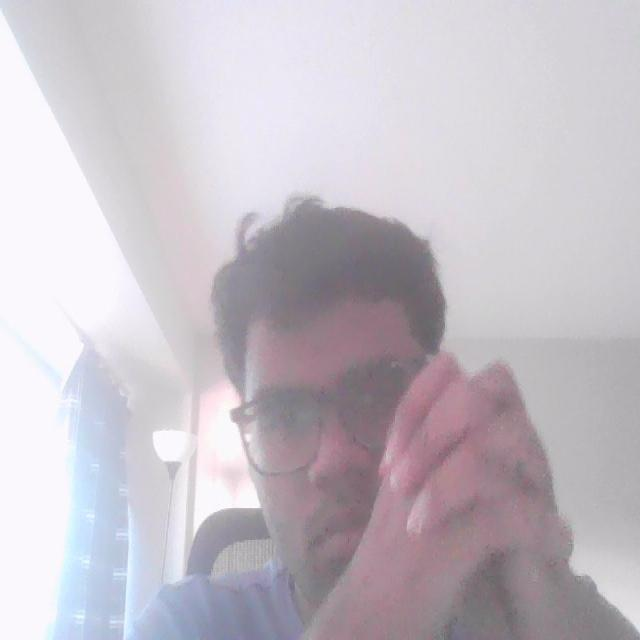Please: (316, 347, 620, 640)
